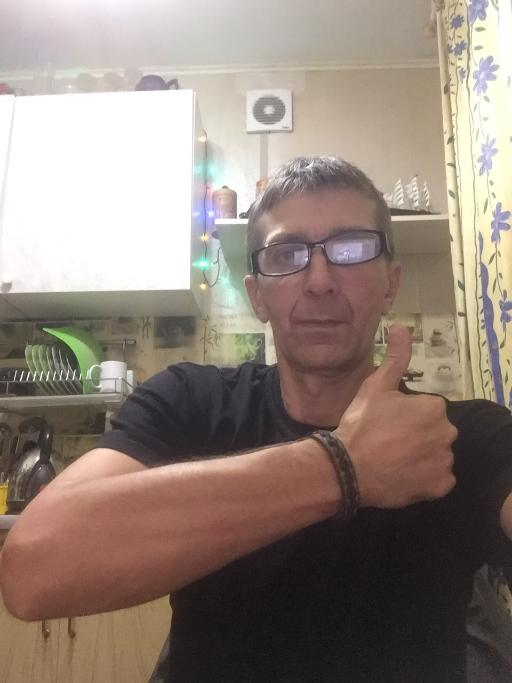like: (333, 323, 460, 510)
